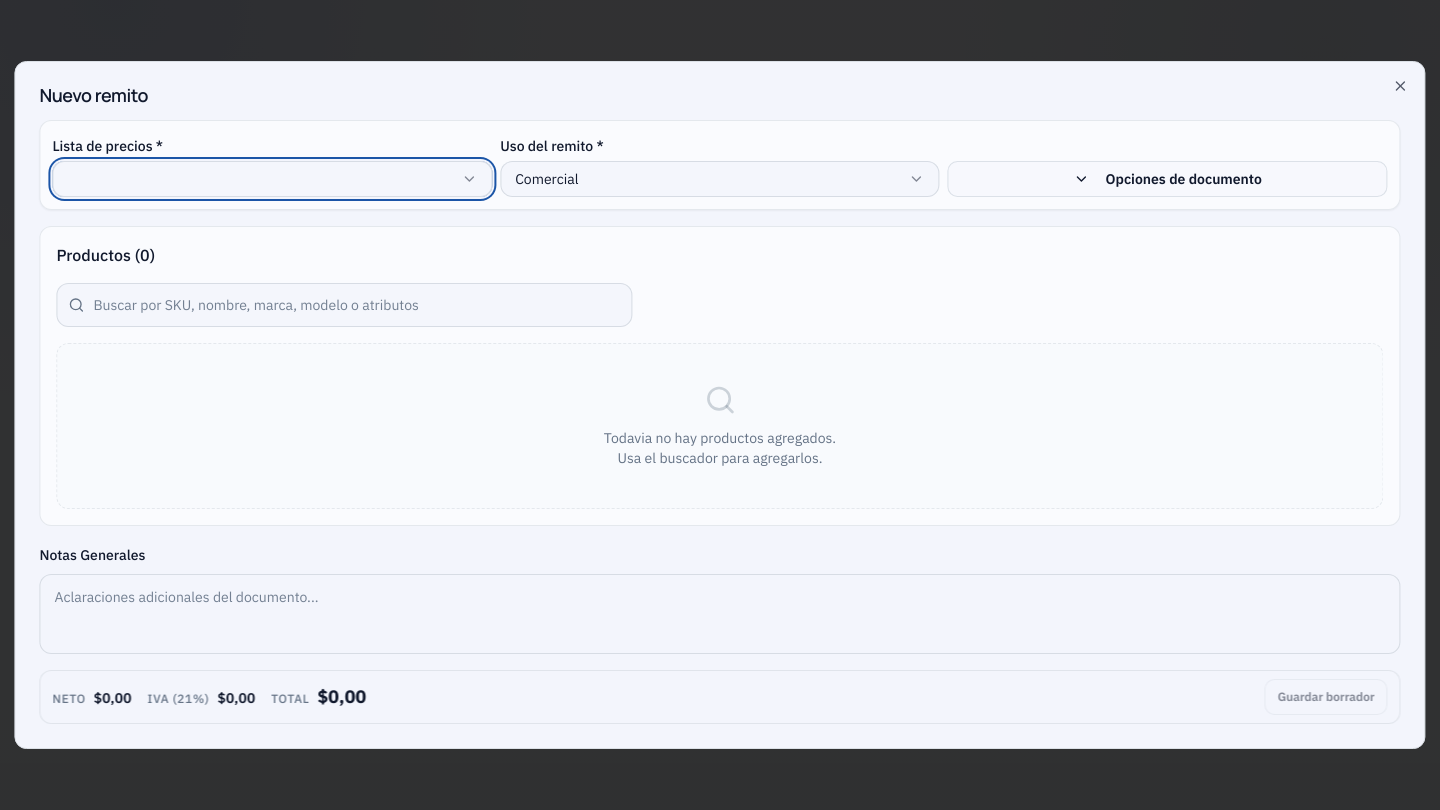
Test case: DocumentsEditorDialog › shows company-scoped available stock while selecting a product
In the field with placeholder "Buscar por SKU, nombre, marca, modelo o atributos": (344,305) top-left (56, 283), bottom-right (632, 327), type "Producto"
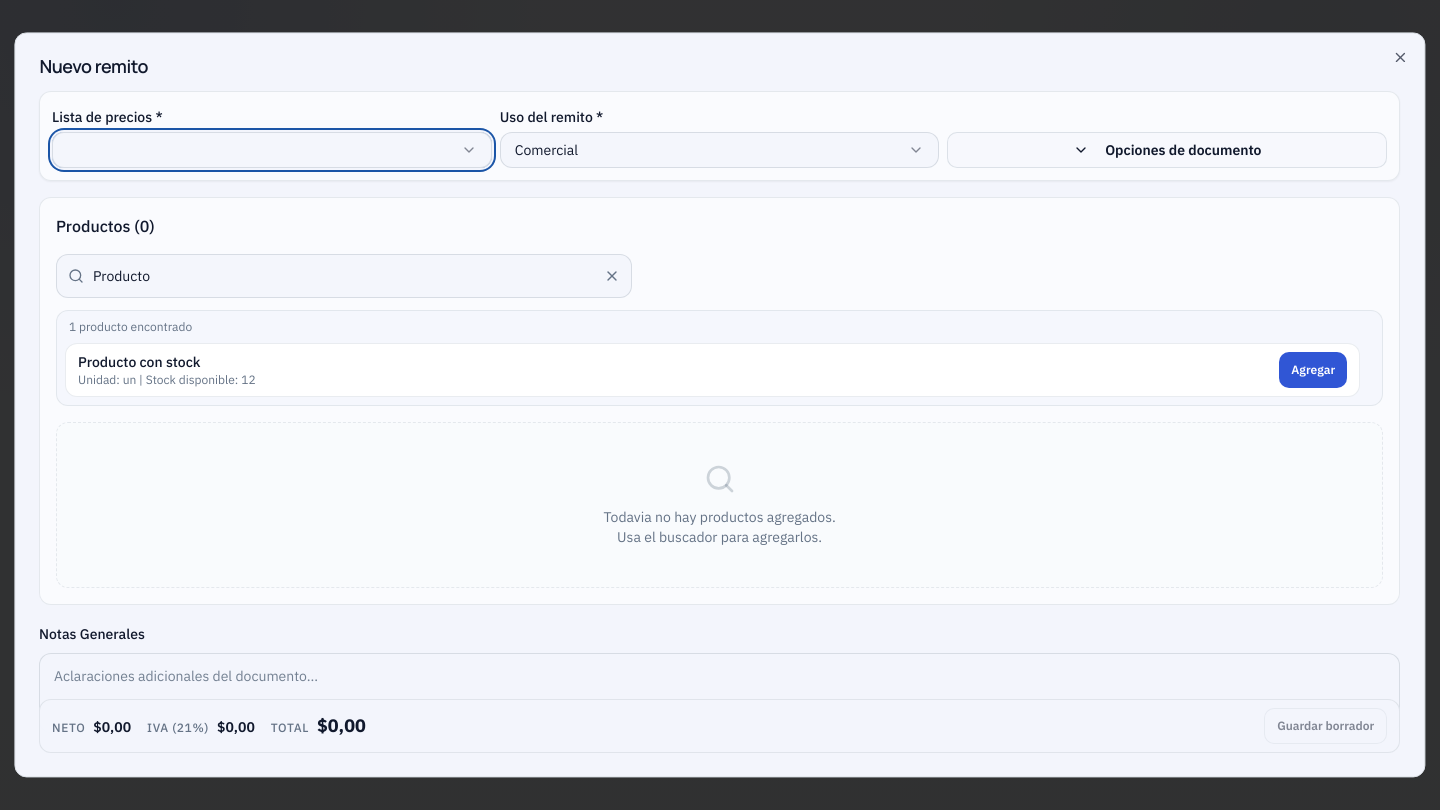
Check: the text "Unidad: un | Stock disponible: 12" is shown, box top-left (78, 372), bottom-right (256, 388)
